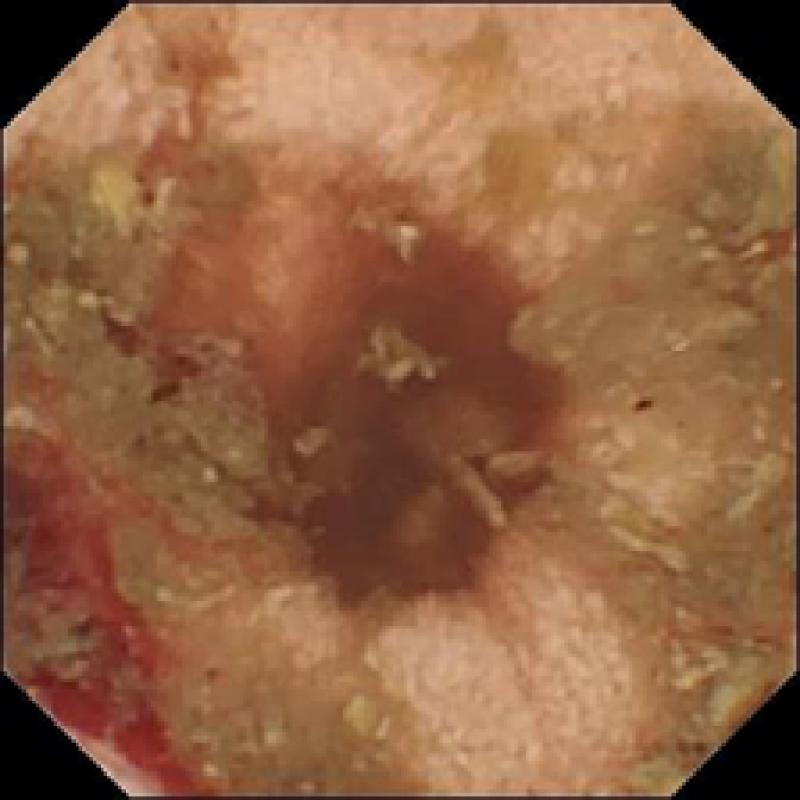bleeding: (25, 443, 182, 800)
